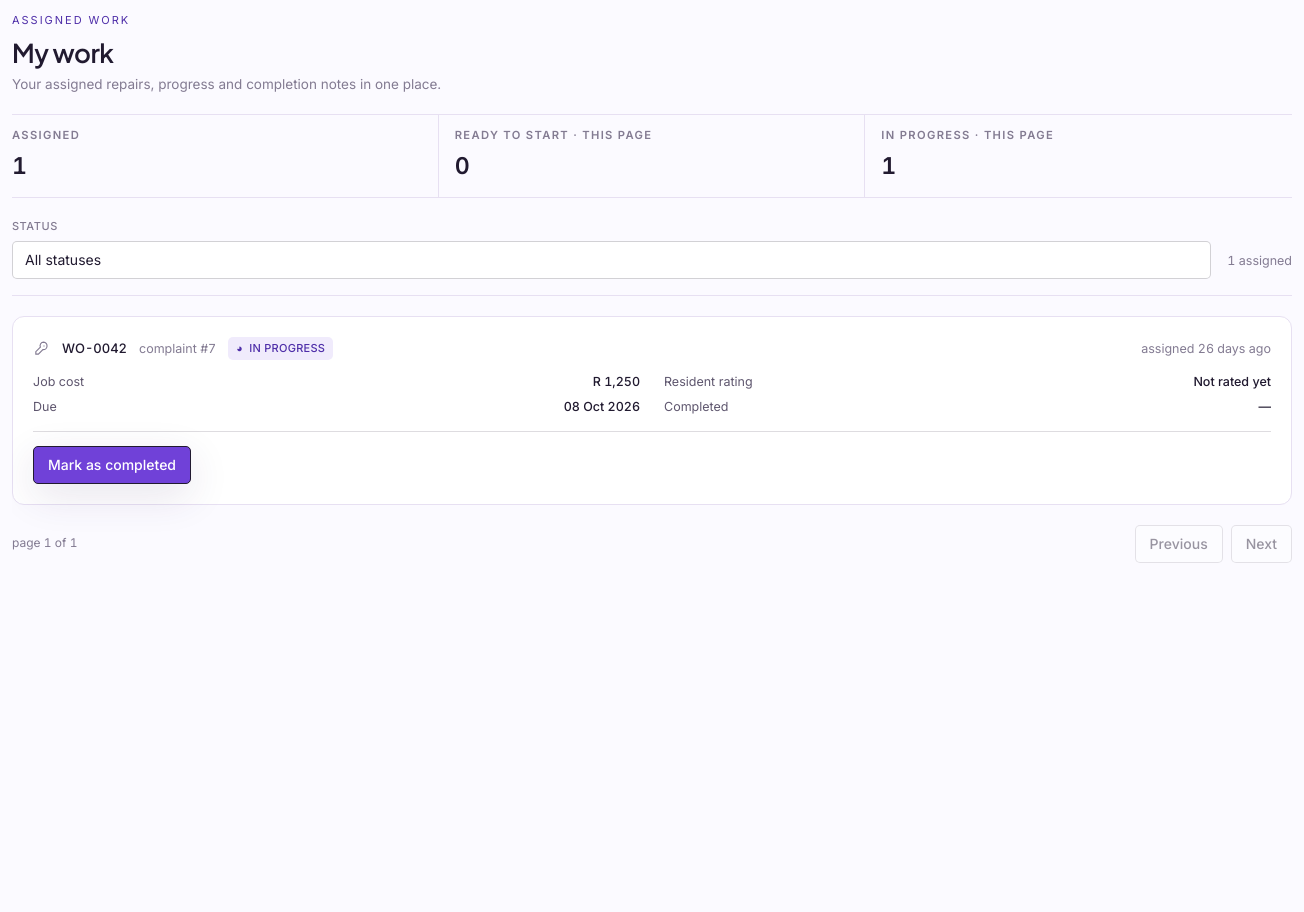
Test case: ProviderWork — transitions › says completing is final before it is done
This screenshot has width=1304, height=912.
Click the button "Mark as completed" at (112, 465), box [33,446,191,484]
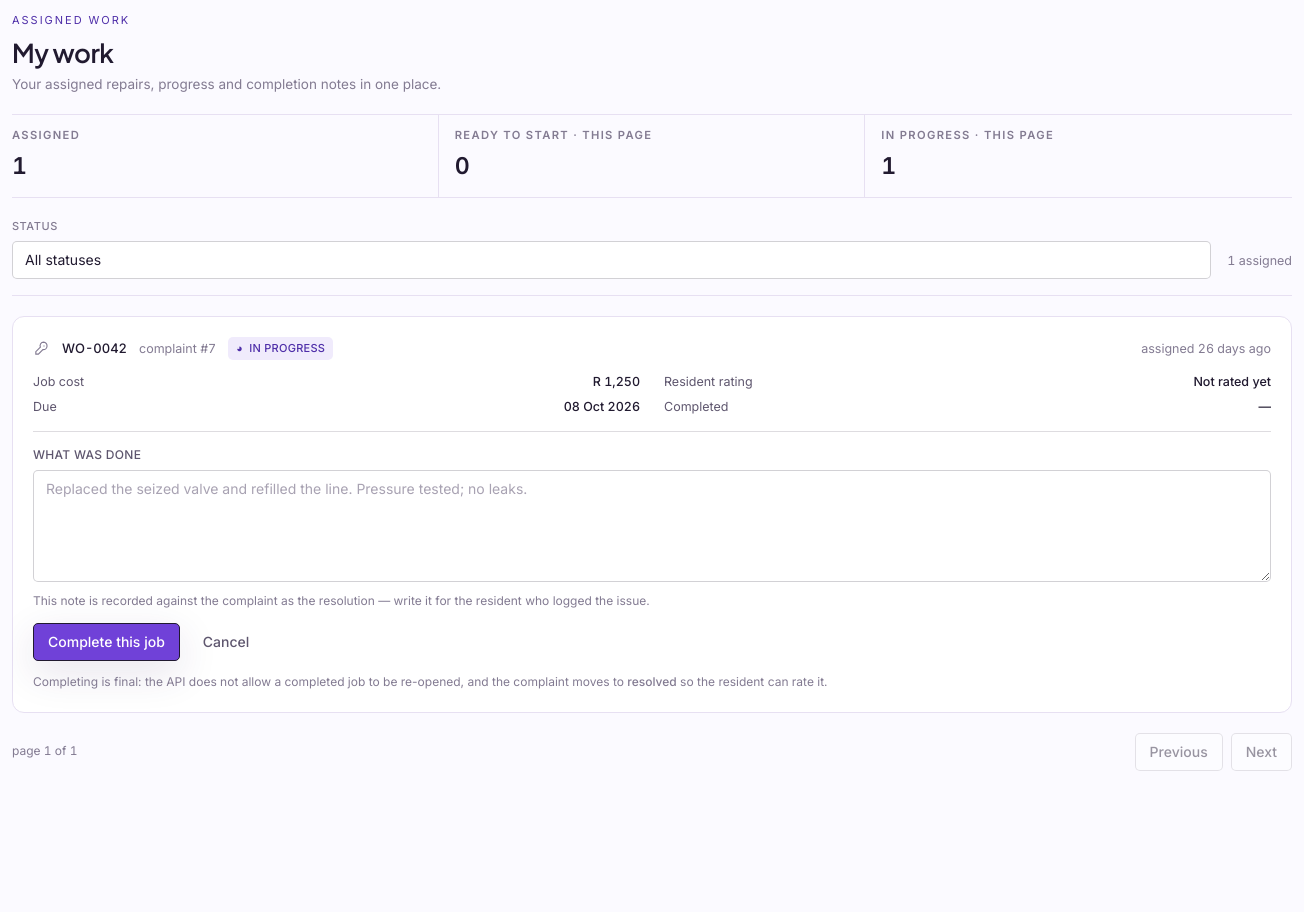
Result: the text "does not allow a completed job to be re-opened" is shown at [33,674,627,689]
